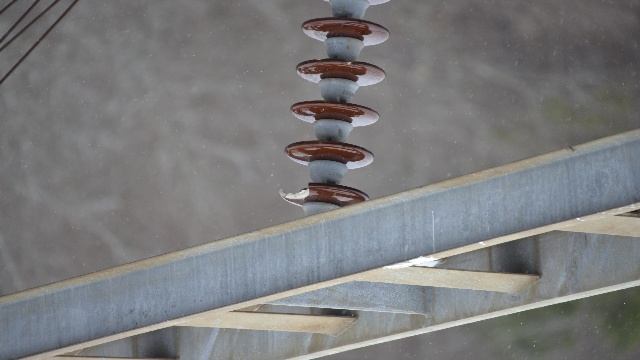broken_local: (278, 179, 312, 202)
insulator_unspecified: (280, 17, 393, 211)
